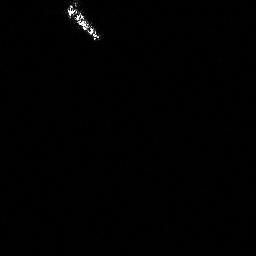ship: (64, 1, 104, 44)
